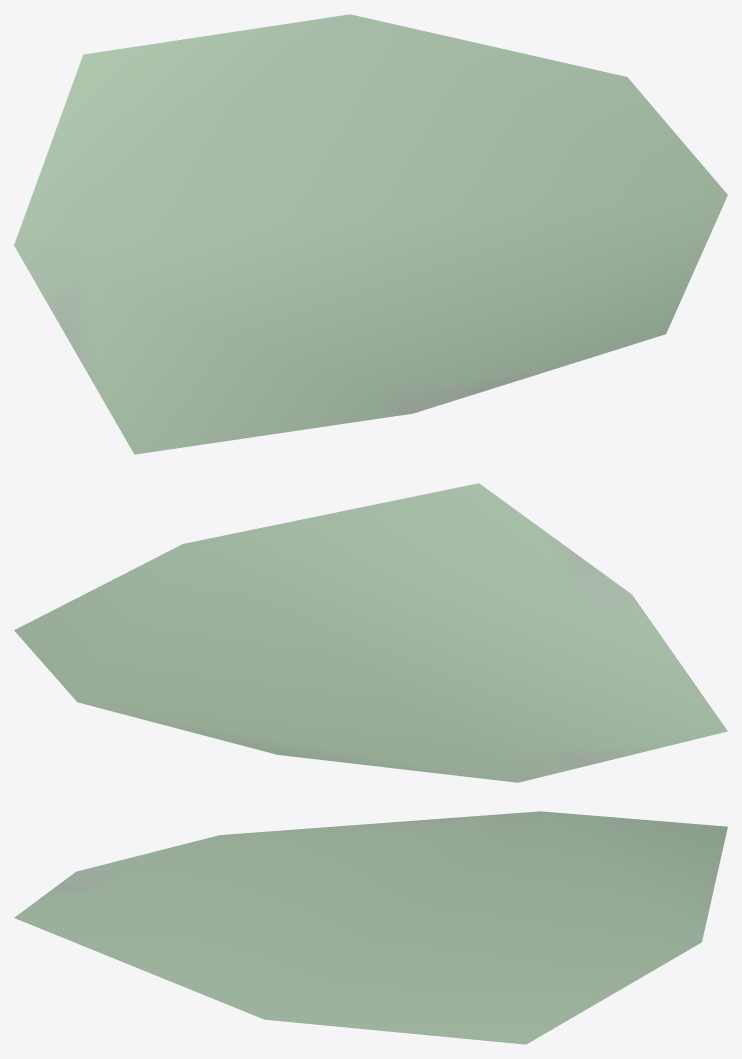
The model's file is TROLLHOLE02_HOLECAP163.fbx.
3 renders of one model, top to bottom at view 1: azimuth 30°, elevation 25°; view 2: azimuth 150°, elevation 25°; view 3: azimuth 270°, elevation 25°, orthographic. The views are drawn at different scales.
Visible parts, largest first — view 1: TROLLHOLE02_HOLECAP163; view 2: TROLLHOLE02_HOLECAP163; view 3: TROLLHOLE02_HOLECAP163.
Part boxes in pixels (x1,y1,x2,y2): TROLLHOLE02_HOLECAP163: (14,14,727,454); TROLLHOLE02_HOLECAP163: (14,483,727,782); TROLLHOLE02_HOLECAP163: (14,811,727,1044).
Size of the model in its own units: 23335 by 4244 by 24808.
Materials: 1 (1 with a texture image).
